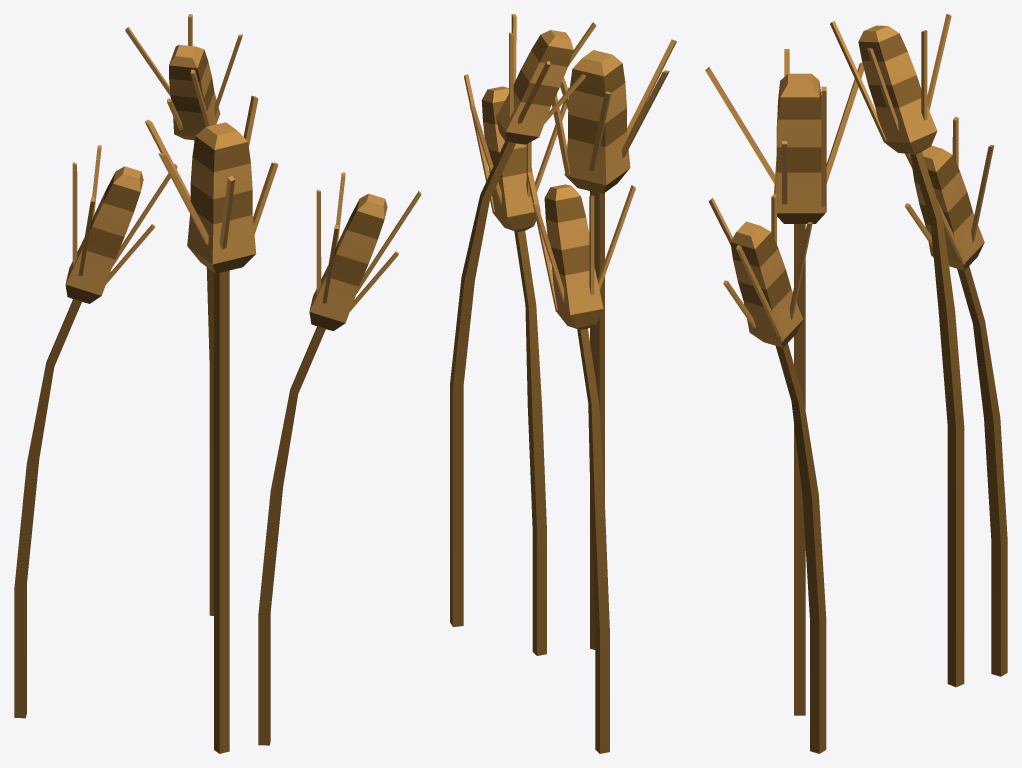
The model's file is Wheat.fbx.
The picture shows the model from 3 angles, left to right: view 1: azimuth 30°, elevation 25°; view 2: azimuth 150°, elevation 25°; view 3: azimuth 270°, elevation 25°; orthographic projection. The views are drawn at different scales.
Parts seen in each view (by area): view 1: pCube35; view 2: pCube35; view 3: pCube35.
Boxes of the visible parts, x1,y1,x2,y2 form: pCube35: (14, 14, 421, 753); pCube35: (450, 14, 676, 753); pCube35: (705, 14, 1007, 753).
Size of the model in its own units: 0.1202 by 0.2849 by 0.1101.
